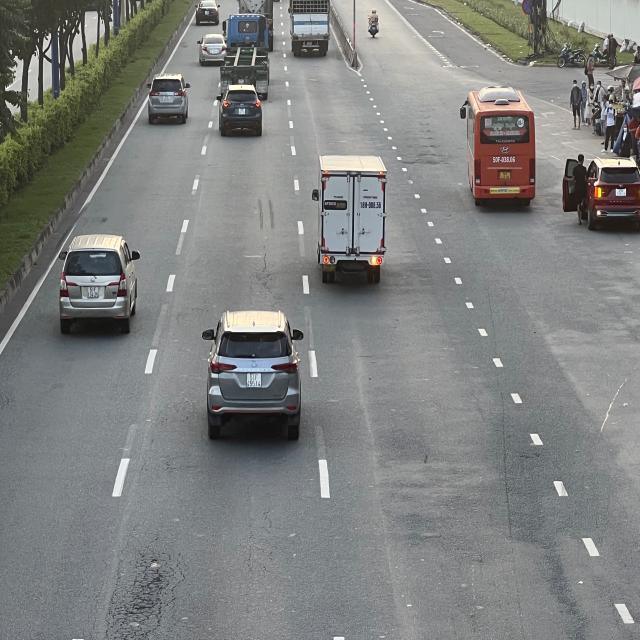car: (205, 310, 306, 439), (60, 236, 141, 332), (569, 155, 640, 229), (215, 87, 263, 138), (147, 72, 191, 120), (199, 33, 227, 65)
coach: (462, 89, 537, 207)
container: (219, 14, 270, 98)
truck: (314, 156, 388, 282), (289, 0, 330, 54)
